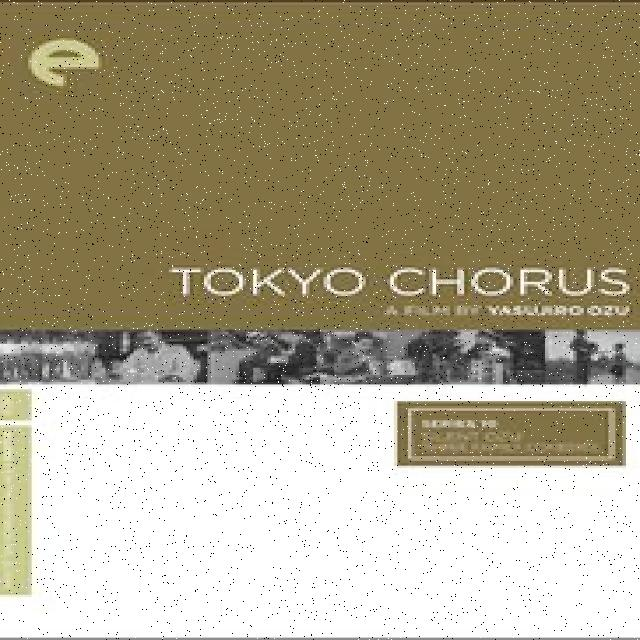movie-judul: (151, 254, 640, 328)
picture: (0, 28, 640, 602)
